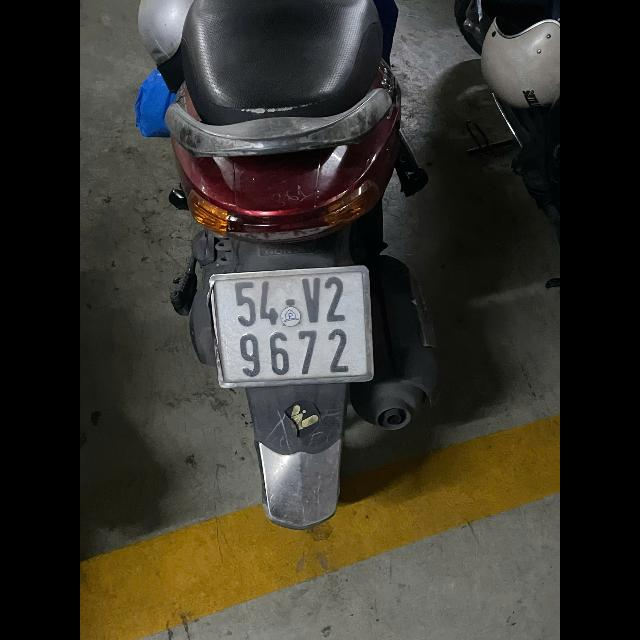BienSoXe: (210, 265, 374, 391)
